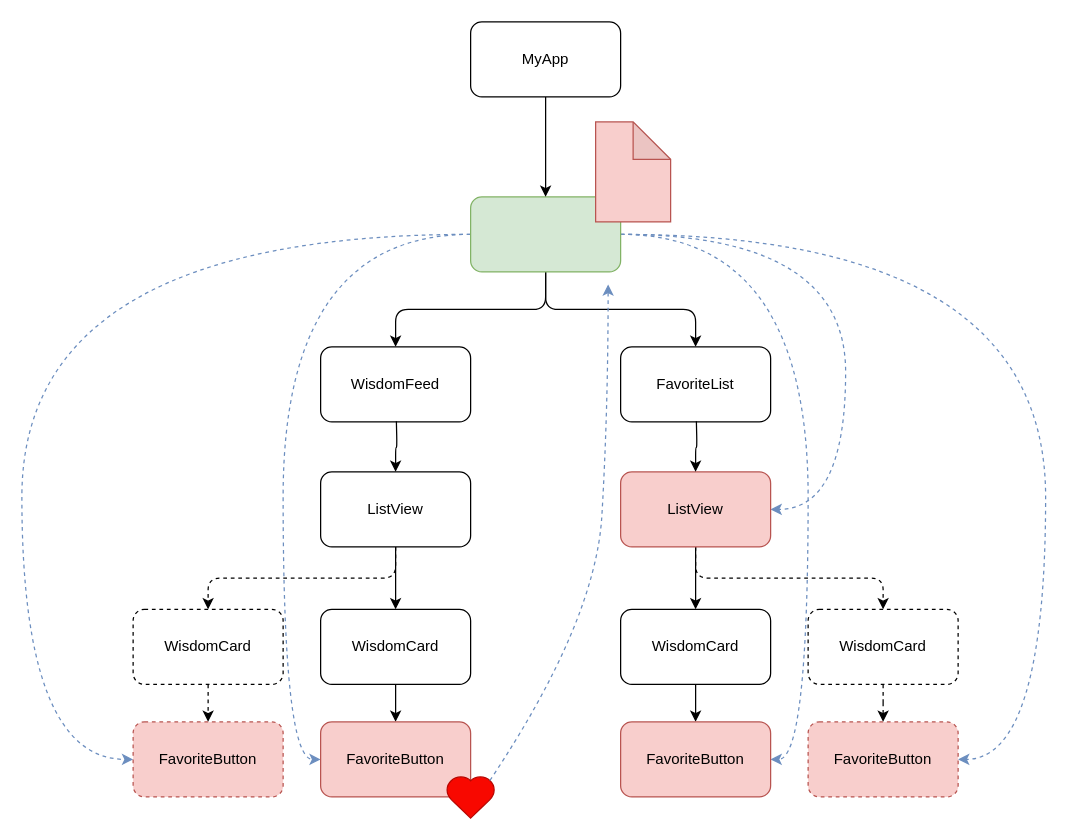
Some shapes in this 1068 by 840 pixel diagram are drawn without their labels. Here are the shapes that lost their labels. From the top down, the centre of each, then its label:
point 632,171: Favorites
point 545,234: MaterialApp
